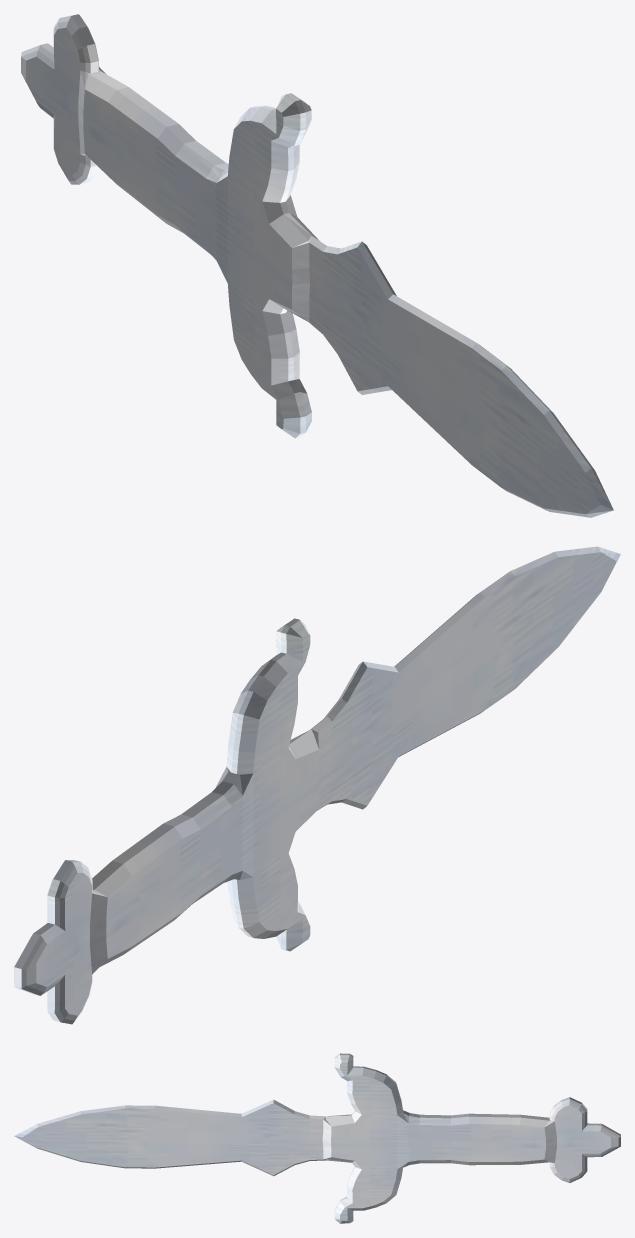
Rendered from model_align.obj.
3 views of the same model, one above another, from view 1: azimuth 30°, elevation 25°; view 2: azimuth 150°, elevation 25°; view 3: azimuth 270°, elevation 25° (orthographic). The views are drawn at different scales.
Parts seen in each view (by area): view 1: mesh1_mesh1-geometry; view 2: mesh1_mesh1-geometry; view 3: mesh1_mesh1-geometry.
Part boxes in pixels (x1,y1,x2,y2): mesh1_mesh1-geometry: (21, 14, 613, 517); mesh1_mesh1-geometry: (14, 546, 620, 1024); mesh1_mesh1-geometry: (14, 1053, 620, 1223).
Bounding box in the file's own units: 0.00691 × 0.0634 × 0.2069.
